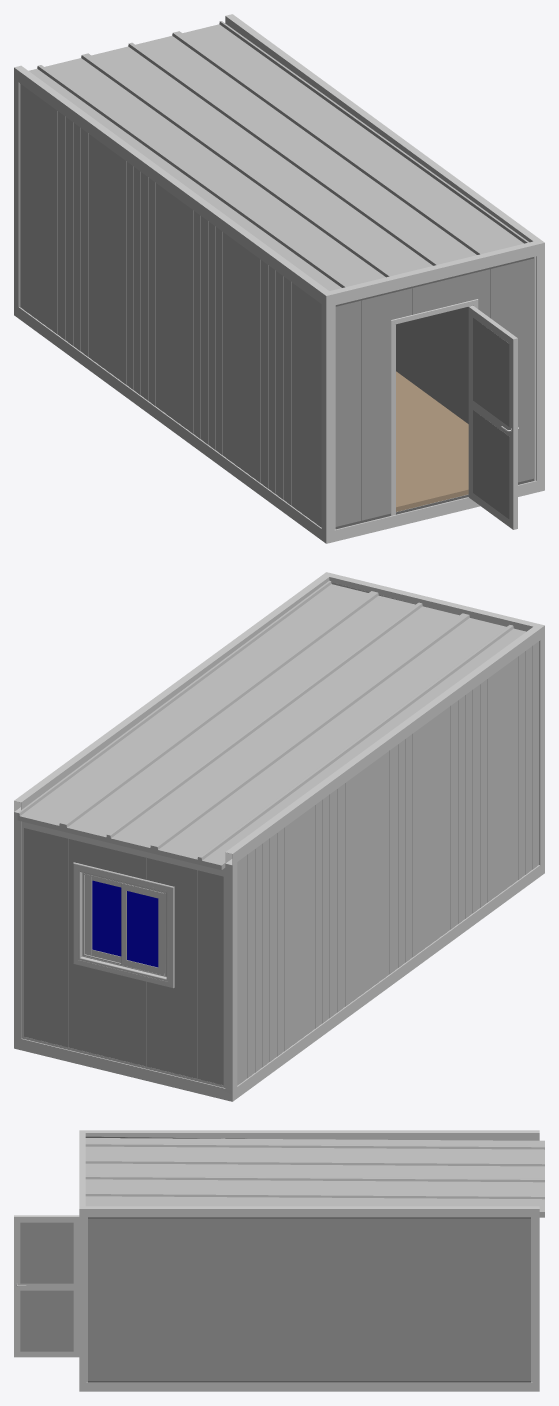
File: box-de-punta.glb
3 views of the same model, one above another, from view 1: azimuth 30°, elevation 25°; view 2: azimuth 150°, elevation 25°; view 3: azimuth 270°, elevation 25° (orthographic). The views are drawn at different scales.
Parts seen in each view (by area): view 1: skfb_offset; view 2: skfb_offset; view 3: skfb_offset.
Boxes of the visible parts, x1,y1,x2,y2 form: skfb_offset: (14,14,544,543); skfb_offset: (14,572,544,1101); skfb_offset: (14,1130,544,1391).
Size of the model in its own units: 0.96 by 1.04 by 2.74.
